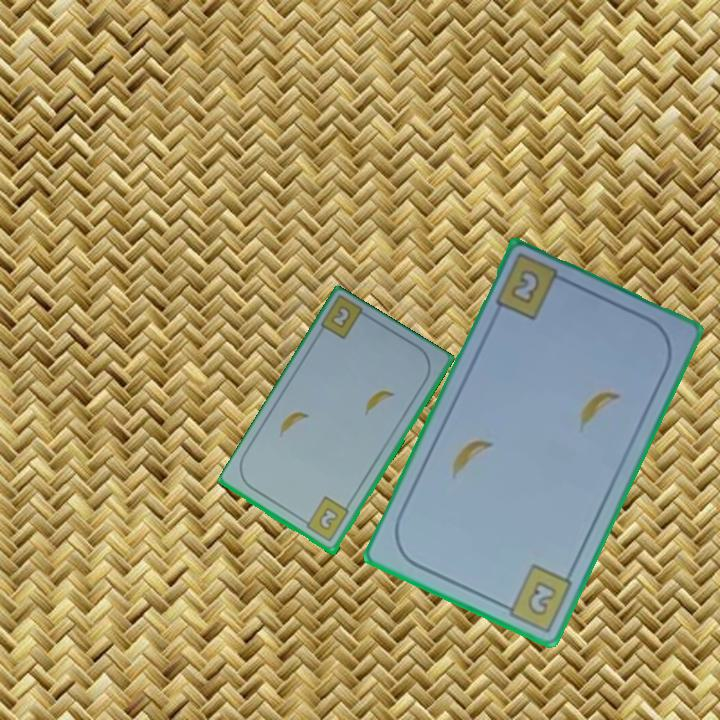2b: (495, 560, 576, 635), (299, 493, 352, 545), (317, 294, 373, 343), (507, 266, 544, 308)
